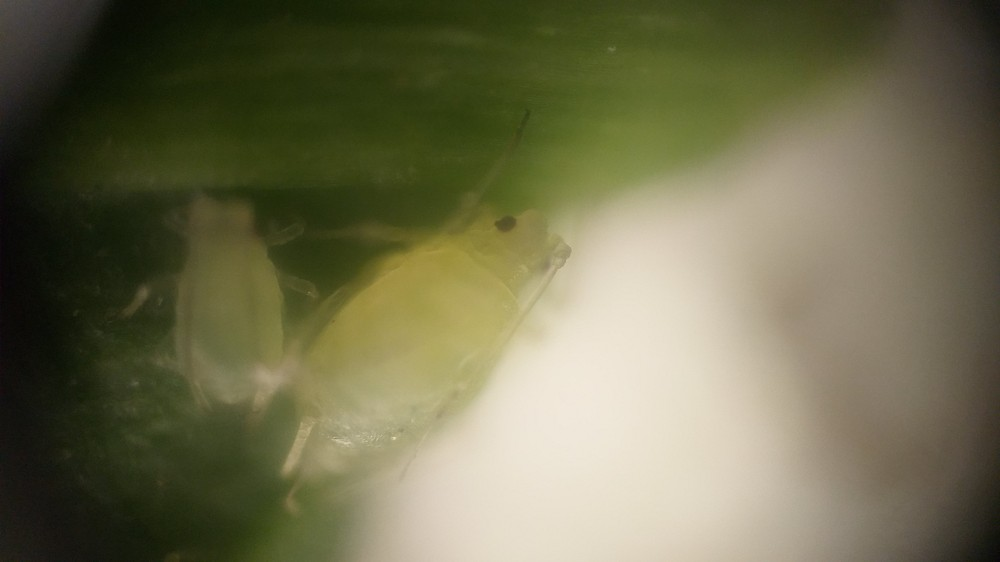Pulgon: (289, 126, 579, 538), (133, 163, 315, 437)
